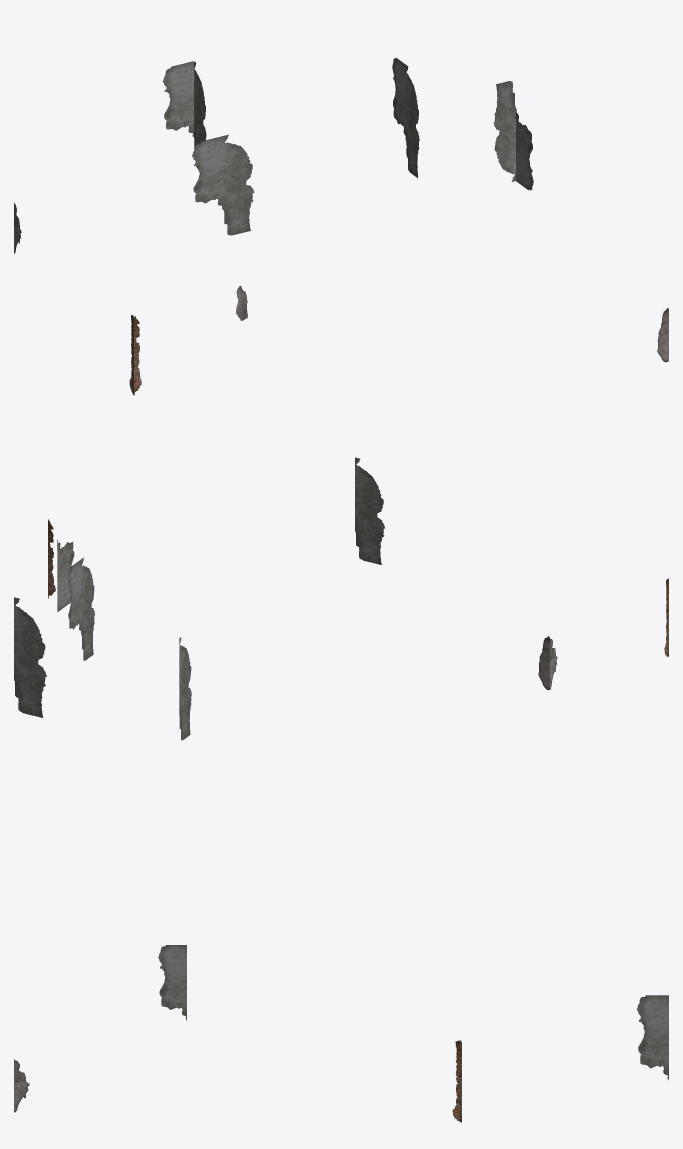
File: BuildingMedDecal012048.glb
3 views of the same model, one above another, from view 1: azimuth 30°, elevation 25°; view 2: azimuth 150°, elevation 25°; view 3: azimuth 270°, elevation 25° (orthographic). The views are drawn at different scales.
Parts seen in each view (by area): view 1: xiutz_building_med_decal_01_; view 2: xiutz_building_med_decal_01_; view 3: xiutz_building_med_decal_01_.
Part boxes in pixels (x1,y1,x2,y2): xiutz_building_med_decal_01_: (14, 57, 668, 395); xiutz_building_med_decal_01_: (14, 457, 668, 740); xiutz_building_med_decal_01_: (14, 945, 668, 1122).
Size of the model in its own units: 21.18 by 5 by 23.11.
1 material, 1 textured.
